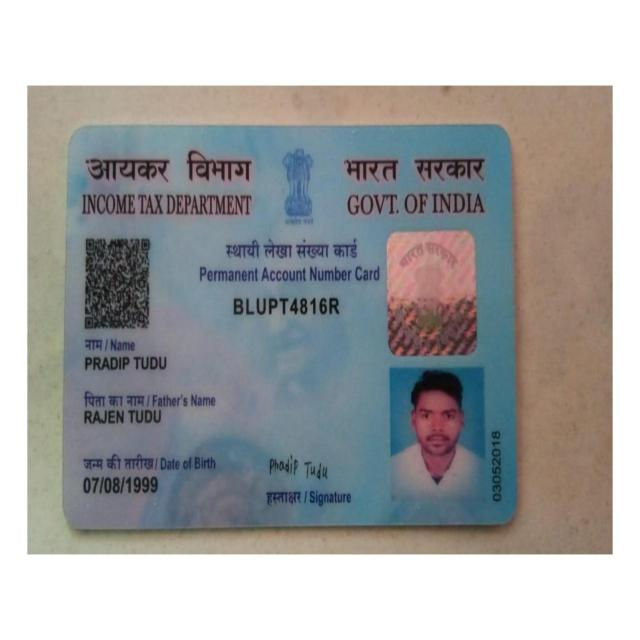pan_card: (69, 136, 512, 522)
